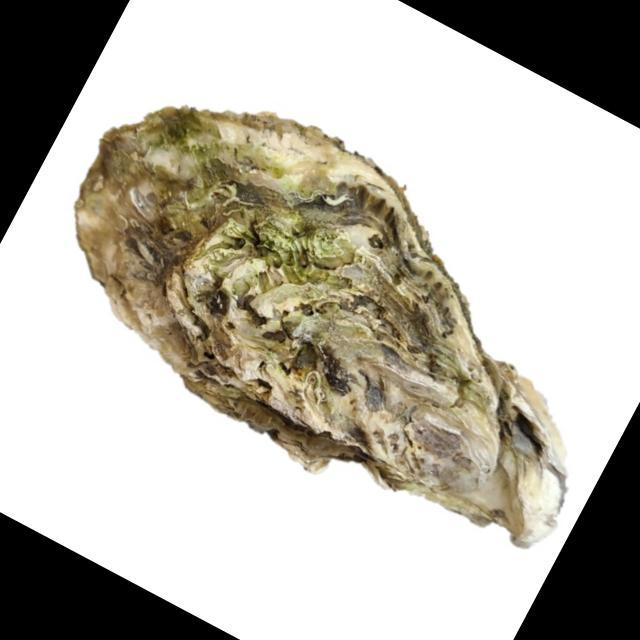Oyster- Indeterminate: (72, 107, 569, 550)
